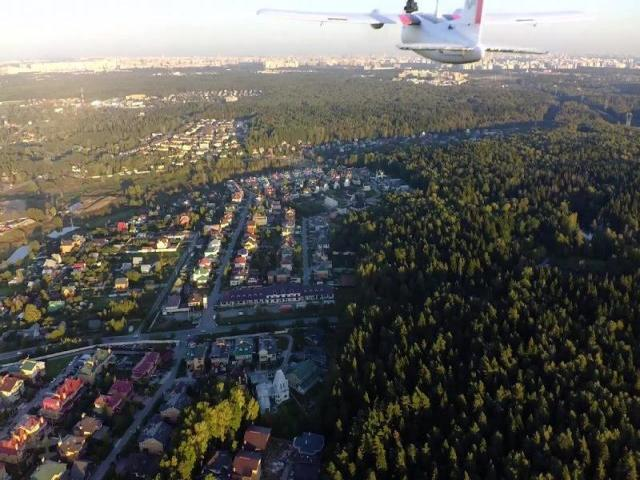hedef: (240, 0, 622, 74)
